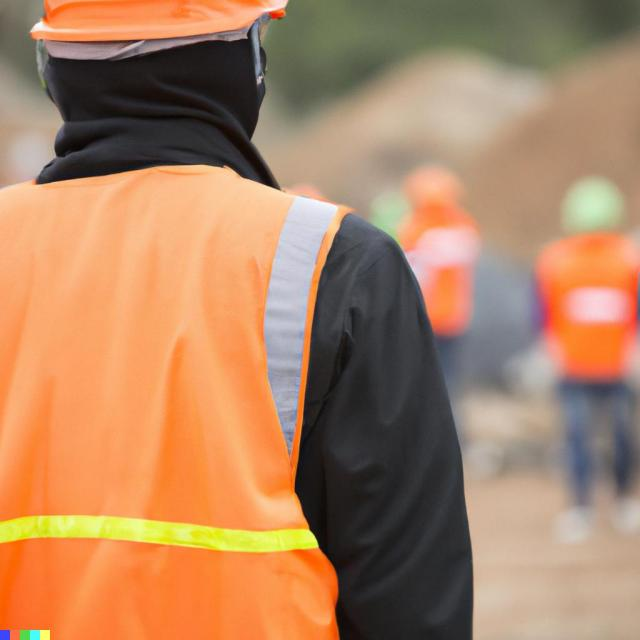Reflective-Jacket: (0, 145, 366, 640), (364, 192, 488, 342), (532, 235, 640, 388)
Safety-Helmet: (27, 0, 306, 50), (552, 169, 630, 239)
